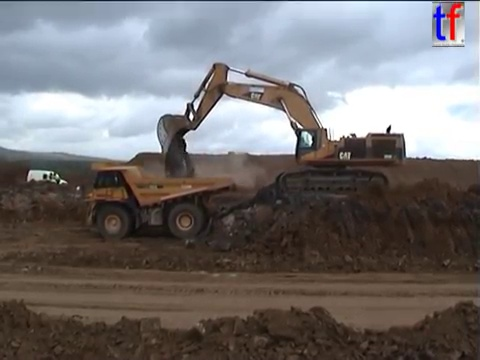excavator: (154, 60, 409, 203)
truck: (75, 159, 234, 241)
worker: (52, 169, 62, 190), (47, 170, 55, 189)
